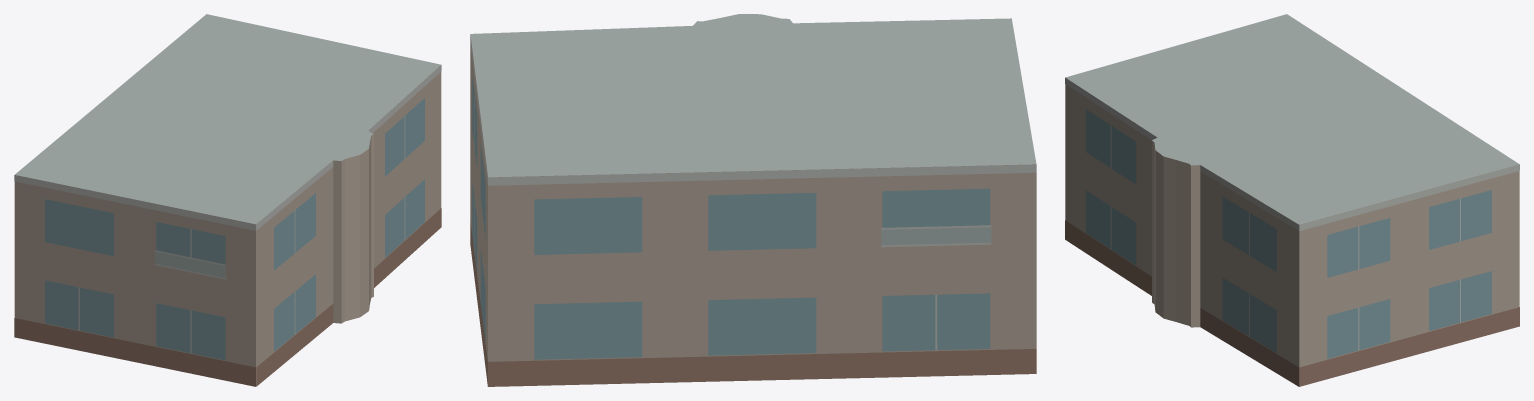
Rendered from survey-upis-33023164.glb.
3 renders of one model, left to right at view 1: azimuth 30°, elevation 25°; view 2: azimuth 150°, elevation 25°; view 3: azimuth 270°, elevation 25°, orthographic. The views are drawn at different scales.
Parts seen in each view (by area): view 1: survey-upis-33023164.tmp; view 2: survey-upis-33023164.tmp; view 3: survey-upis-33023164.tmp.
Boxes of the visible parts, x1=… form: survey-upis-33023164.tmp: x1=14, y1=14, x2=441, y2=386; survey-upis-33023164.tmp: x1=470, y1=14, x2=1036, y2=386; survey-upis-33023164.tmp: x1=1065, y1=14, x2=1519, y2=386.
Size of the model in its own units: 17.02 by 6.1 by 15.51.
